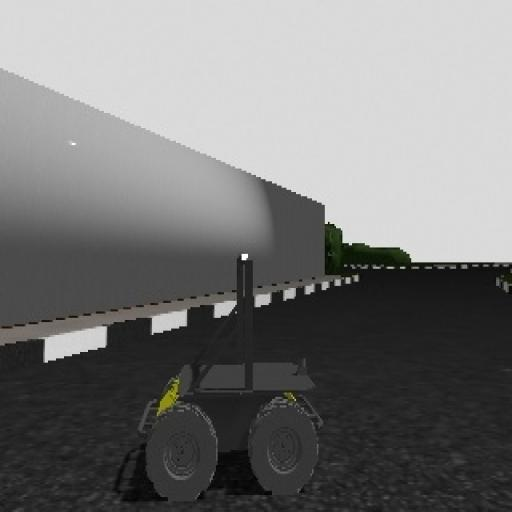huskya200: (112, 243, 334, 500)
